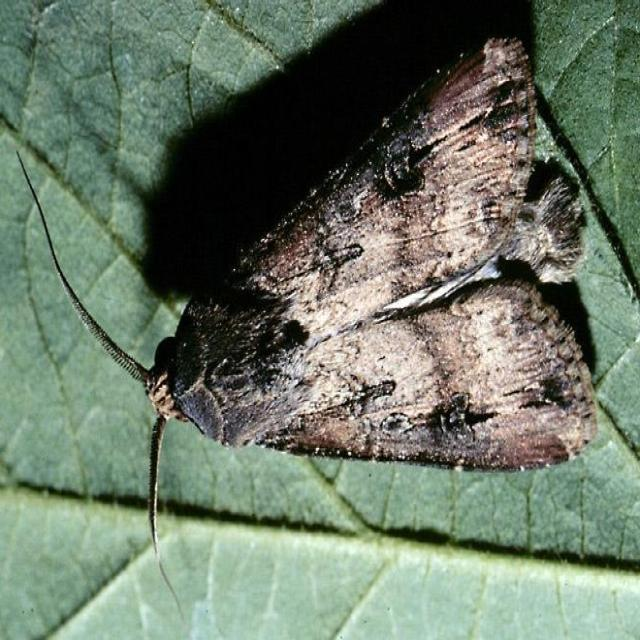black cutworm: (94, 23, 611, 504)
